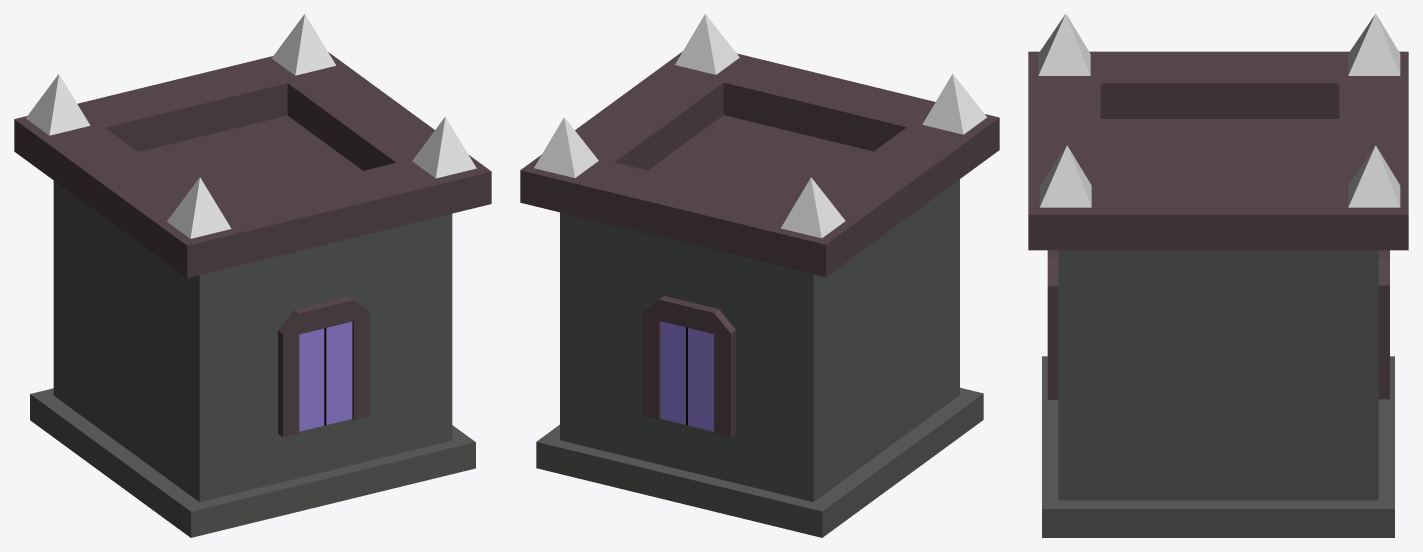
Rendered from house3.fbx.
3 renders of one model, left to right at view 1: azimuth 30°, elevation 25°; view 2: azimuth 150°, elevation 25°; view 3: azimuth 270°, elevation 25°, orthographic. The views are drawn at different scales.
Visible parts, largest first — view 1: Cube, Cube.003, Cube.001, Cube.006, Cube.002, Cube.009, Cube.010, Cube.008; view 2: Cube, Cube.003, Cube.001, Cube.005, Cube.009, Cube.010, Cube.002, Cube.008; view 3: Cube, Cube.003, Cube.001, Cube.008, Cube.002, Cube.010, Cube.009, Cube.006, Cube.005.
Boxes of the visible parts, <box> form: Cube: <box>53,181,452,502</box>; Cube.003: <box>14,52,491,277</box>; Cube.001: <box>30,388,475,537</box>; Cube.006: <box>278,296,370,437</box>; Cube.002: <box>412,117,476,178</box>; Cube.009: <box>26,74,90,135</box>; Cube.010: <box>167,177,231,238</box>; Cube.008: <box>271,14,335,75</box>; Cube: <box>560,179,959,501</box>; Cube.003: <box>520,51,999,277</box>; Cube.001: <box>536,387,983,537</box>; Cube.005: <box>642,296,735,437</box>; Cube.009: <box>781,177,845,238</box>; Cube.010: <box>922,74,987,134</box>; Cube.002: <box>675,14,739,74</box>; Cube.008: <box>534,117,598,177</box>; Cube: <box>1058,250,1378,500</box>; Cube.003: <box>1028,51,1408,250</box>; Cube.001: <box>1042,356,1394,537</box>; Cube.008: <box>1348,145,1400,207</box>; Cube.002: <box>1039,145,1091,207</box>; Cube.010: <box>1038,14,1090,75</box>; Cube.009: <box>1348,14,1400,75</box>; Cube.006: <box>1047,250,1058,399</box>; Cube.005: <box>1378,250,1389,399</box>.
Size of the model in its own units: 603 by 658 by 594.
